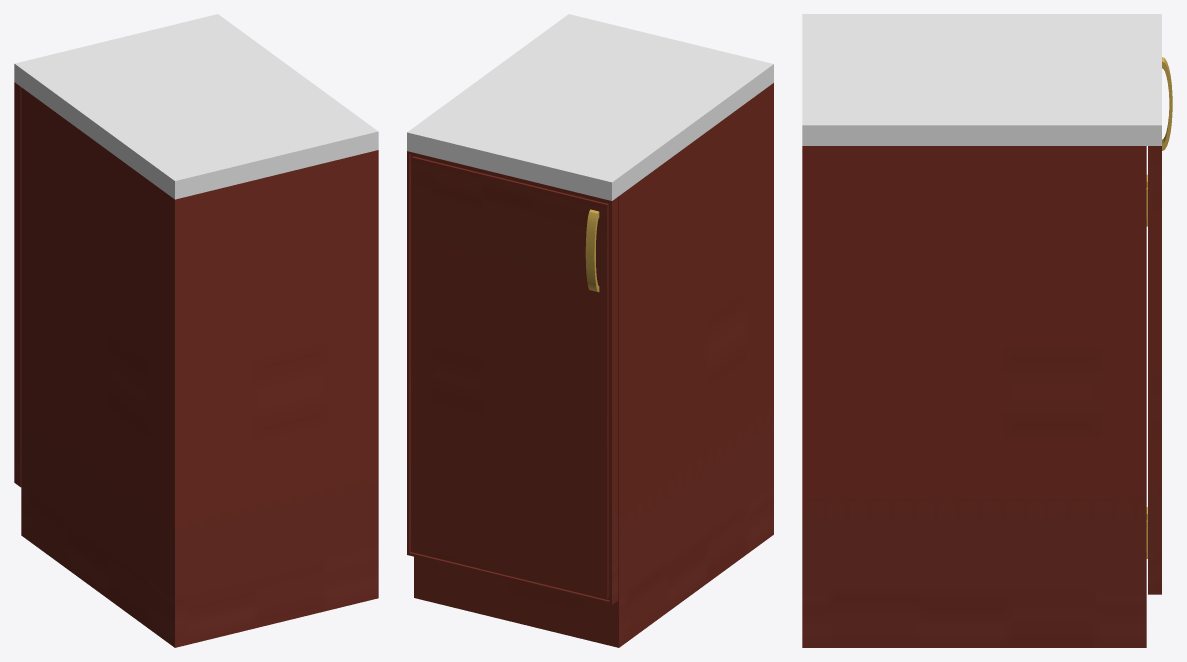
Rendered from CabinetF02.glb.
3 renders of one model, left to right at view 1: azimuth 30°, elevation 25°; view 2: azimuth 150°, elevation 25°; view 3: azimuth 270°, elevation 25°, orthographic. The views are drawn at different scales.
Visible parts, largest first — view 1: CabinetF02_model, CabinetF02Door; view 2: CabinetF02_model, CabinetF02Door; view 3: CabinetF02_model, CabinetF02Door.
Boxes of the visible parts, x1=… form: CabinetF02_model: x1=14, y1=14, x2=378, y2=647; CabinetF02Door: x1=14, y1=82, x2=21, y2=487; CabinetF02_model: x1=407, y1=14, x2=773, y2=647; CabinetF02Door: x1=407, y1=151, x2=618, y2=604; CabinetF02_model: x1=802, y1=14, x2=1161, y2=647; CabinetF02Door: x1=1146, y1=57, x2=1172, y2=594.
Size of the model in its own units: 0.9256 by 2.02 by 1.29.
Materials: 1 (1 with a texture image).
